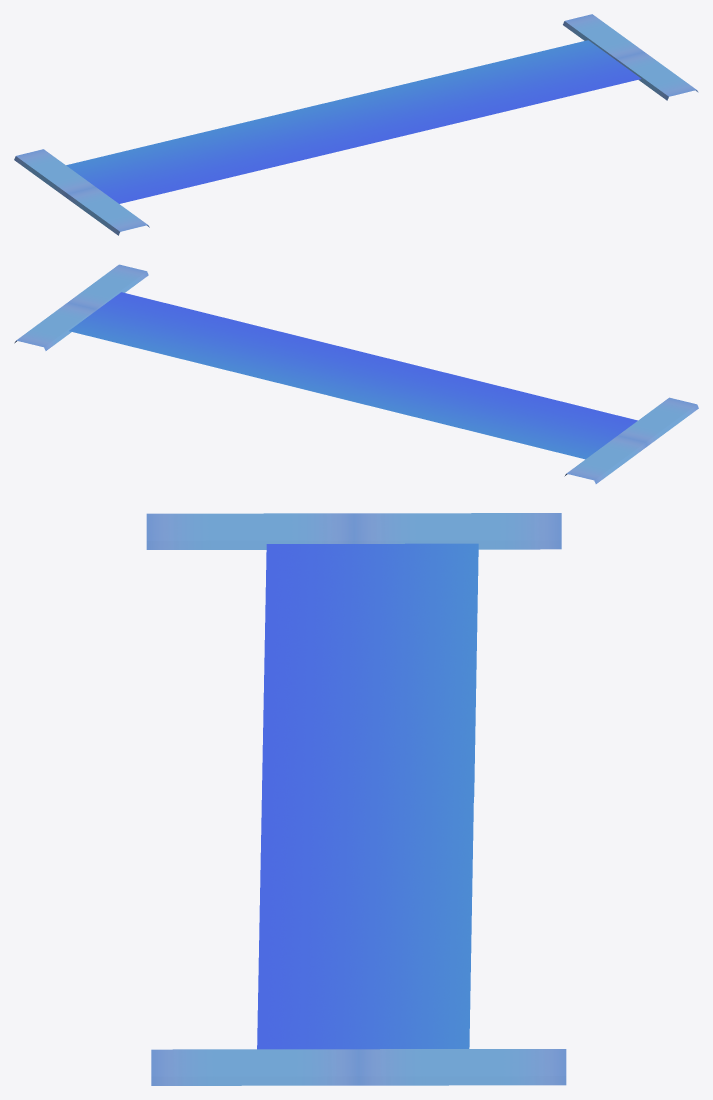
File: Area_07_17.fbx
3 views of the same model, one above another, from view 1: azimuth 30°, elevation 25°; view 2: azimuth 150°, elevation 25°; view 3: azimuth 270°, elevation 25° (orthographic). The views are drawn at different scales.
Parts seen in each view (by area): view 1: Area_07_17; view 2: Area_07_17; view 3: Area_07_17.
Part boxes in pixels (<box>): Area_07_17: <box>14,14,698,235</box>; Area_07_17: <box>14,264,698,483</box>; Area_07_17: <box>146,513,566,1085</box>.
Bounding box in the file's own units: 4835 × 28.72 × 1512.
